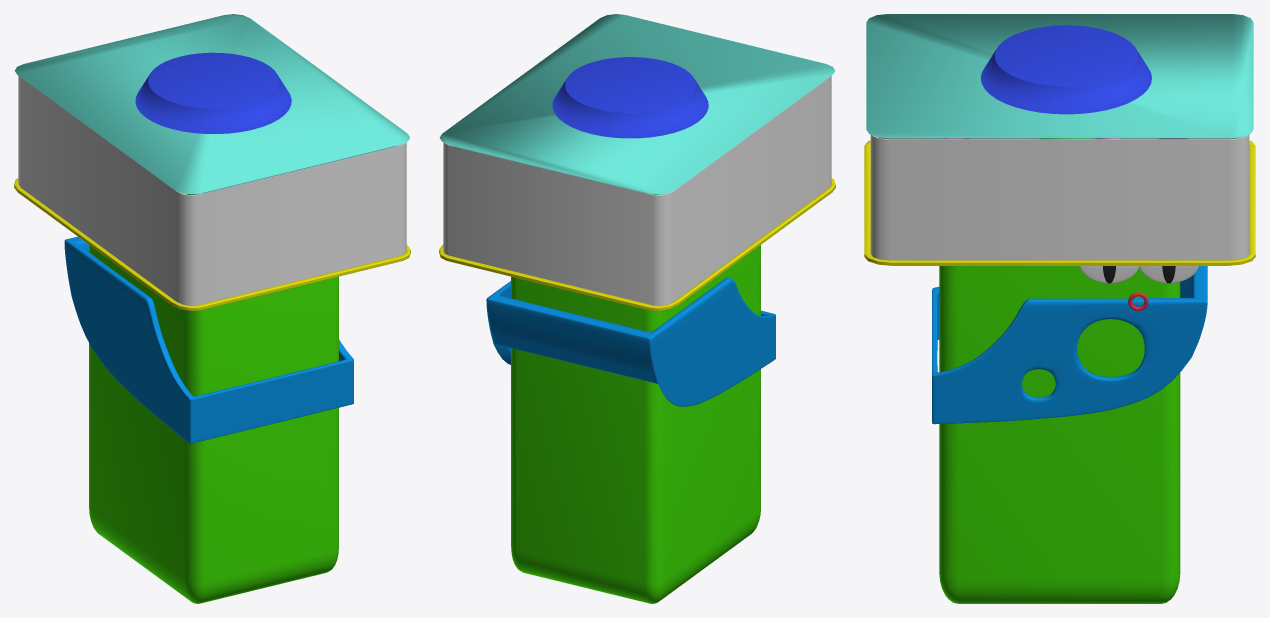
File: part_2 building (1).fbx
3 renders of one model, left to right at view 1: azimuth 30°, elevation 25°; view 2: azimuth 150°, elevation 25°; view 3: azimuth 270°, elevation 25°, orthographic. The views are drawn at different scales.
Parts seen in each view (by area): view 1: building_base, glass_box, glass_box_top, building_skin, cap, track; view 2: building_base, glass_box, glass_box_top, building_skin, cap, track; view 3: building_base, glass_box, glass_box_top, building_skin, cap, track, left_eye.002, left_eye.
Part boxes in pixels (x1,y1,x2,y2): building_base: [89, 245, 338, 603]; glass_box: [18, 76, 406, 305]; glass_box_top: [15, 14, 410, 194]; building_skin: [64, 236, 353, 443]; cap: [135, 52, 291, 133]; track: [14, 178, 410, 310]; building_base: [511, 245, 760, 603]; glass_box: [443, 76, 831, 305]; glass_box_top: [439, 14, 835, 194]; building_skin: [486, 277, 775, 406]; cap: [552, 57, 708, 138]; track: [439, 178, 835, 310]; building_base: [939, 266, 1180, 603]; glass_box: [870, 135, 1249, 260]; glass_box_top: [866, 14, 1253, 138]; building_skin: [932, 266, 1207, 424]; cap: [980, 25, 1151, 114]; track: [864, 140, 1255, 265]; left_eye.002: [1139, 266, 1198, 283]; left_eye: [1080, 266, 1138, 282].
Bounding box in the file's own units: 9126 × 17128 × 11791.
